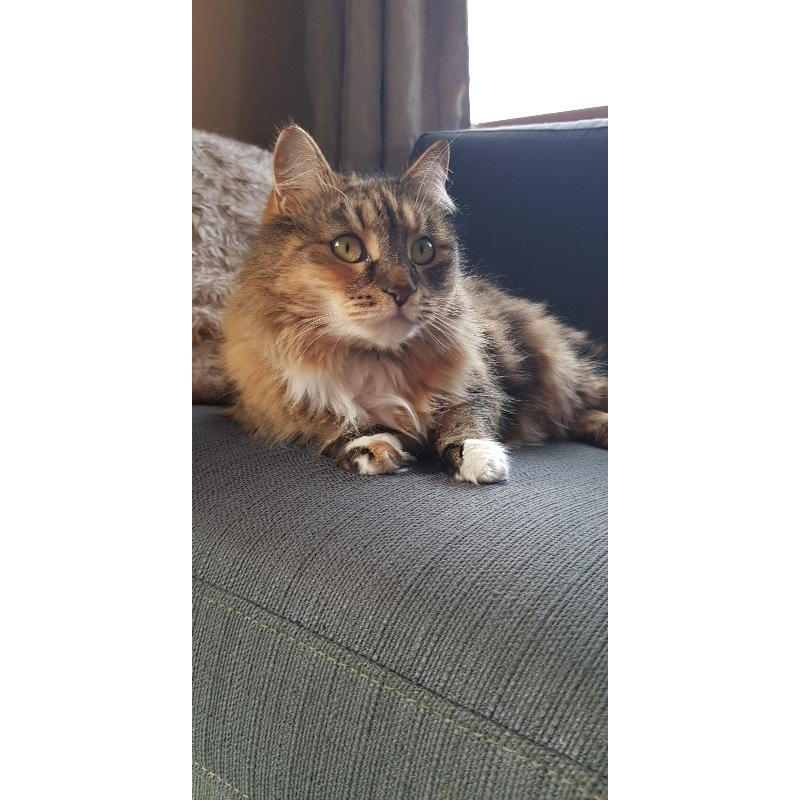yellow: (226, 127, 608, 483)
